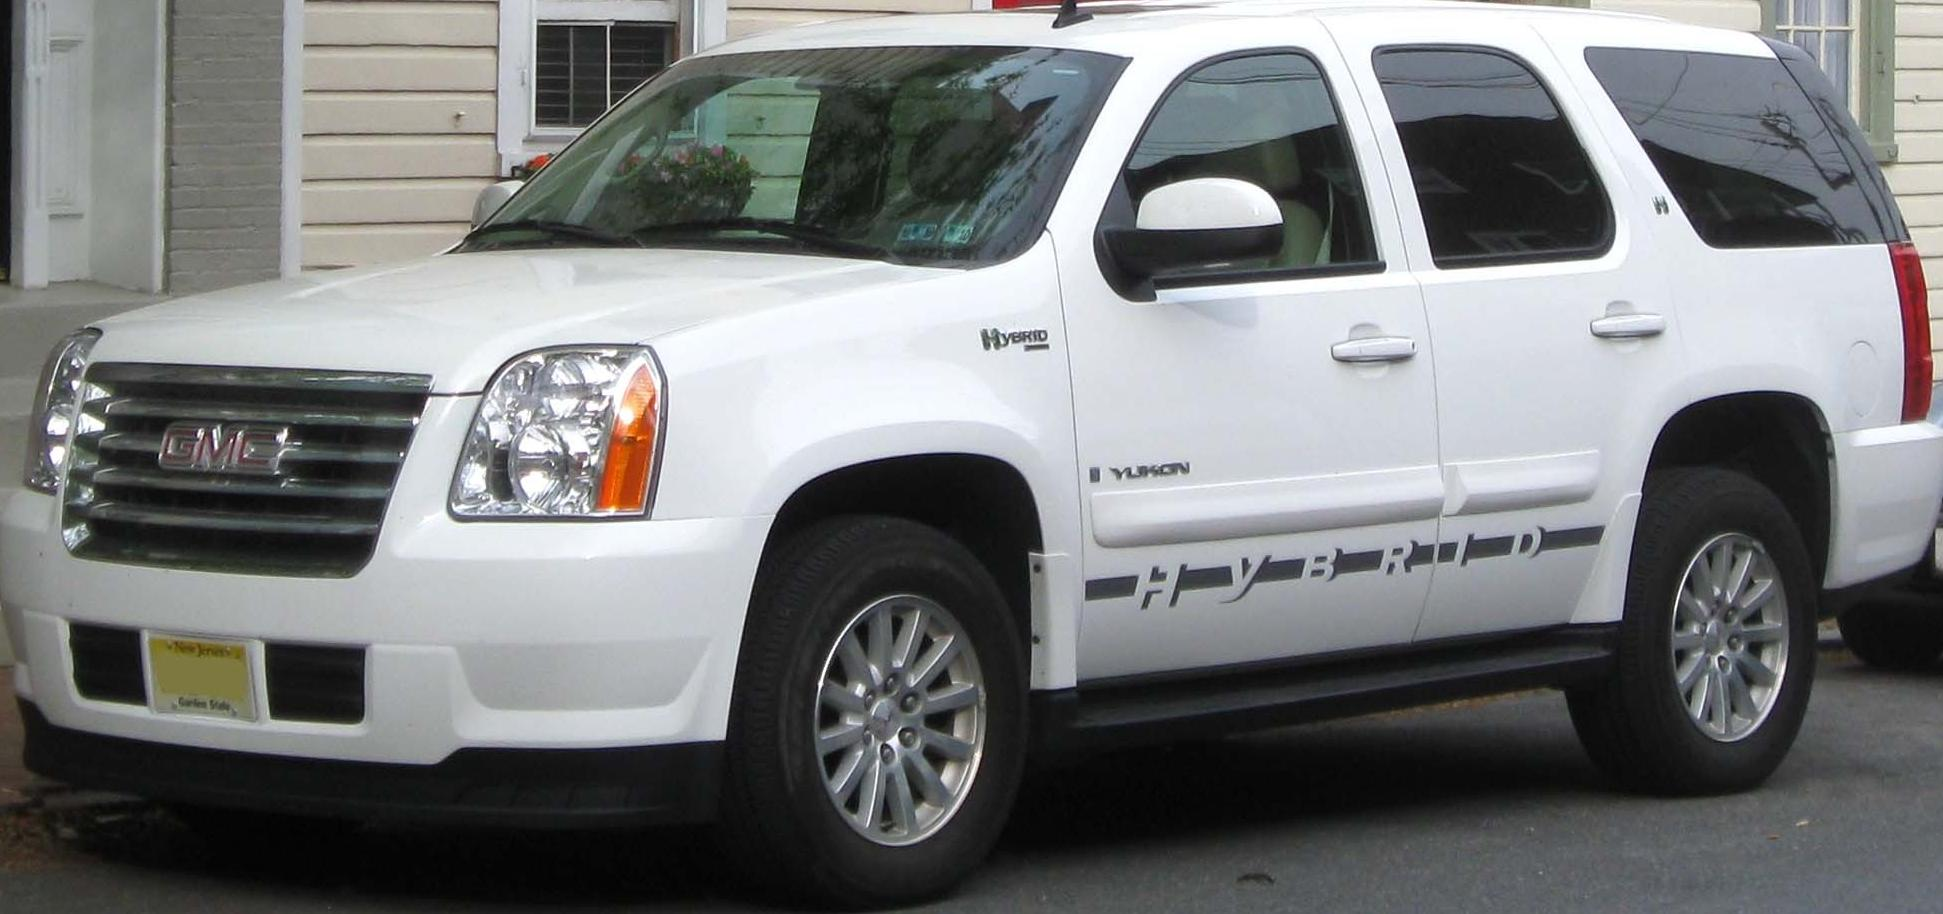front_view: (0, 312, 756, 824)
headlight: (408, 324, 708, 580)
side_glass: (1056, 32, 1679, 289)
